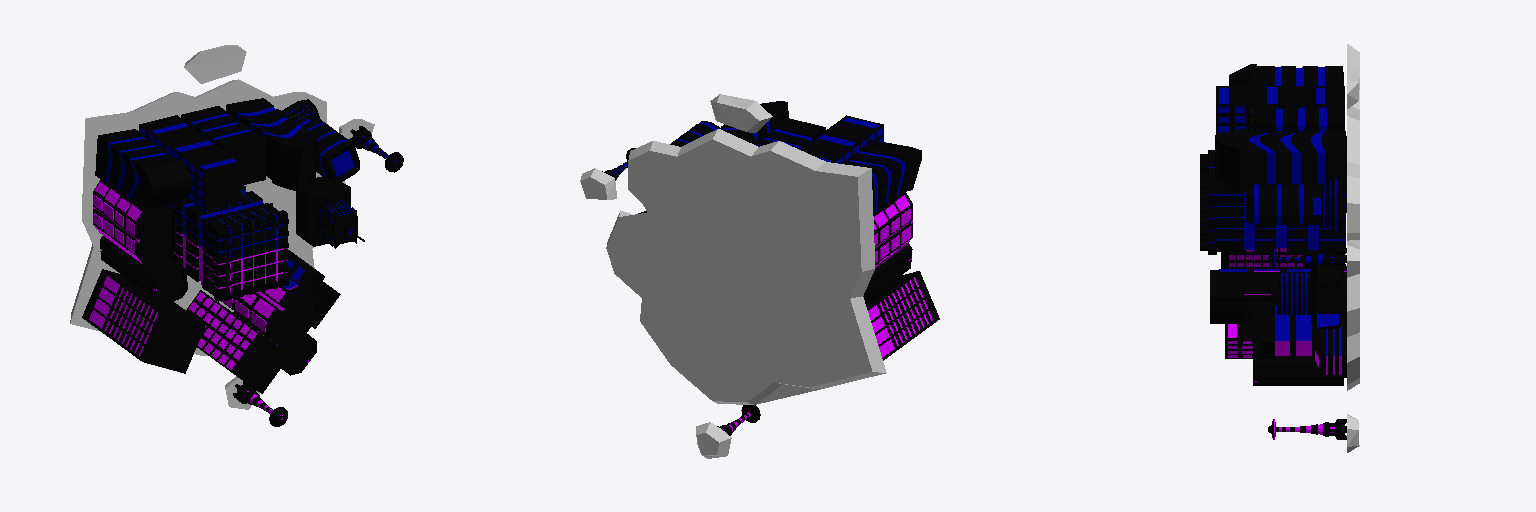
File: ville2.obj
3 renders of one model, left to right at view 1: azimuth 30°, elevation 25°; view 2: azimuth 150°, elevation 25°; view 3: azimuth 270°, elevation 25°, orthographic.
Visible parts, largest first — view 1: Cube, Plane; view 2: Plane, Cube; view 3: Cube, Plane.
Part boxes in pixels (x1,y1,x2,y2): Cube: (82, 98, 403, 426); Plane: (70, 45, 374, 409); Plane: (580, 94, 886, 458); Cube: (602, 101, 939, 435); Cube: (1200, 64, 1346, 439); Plane: (1347, 44, 1359, 452).
Size of the model in its own units: 158 by 183 by 71.87.